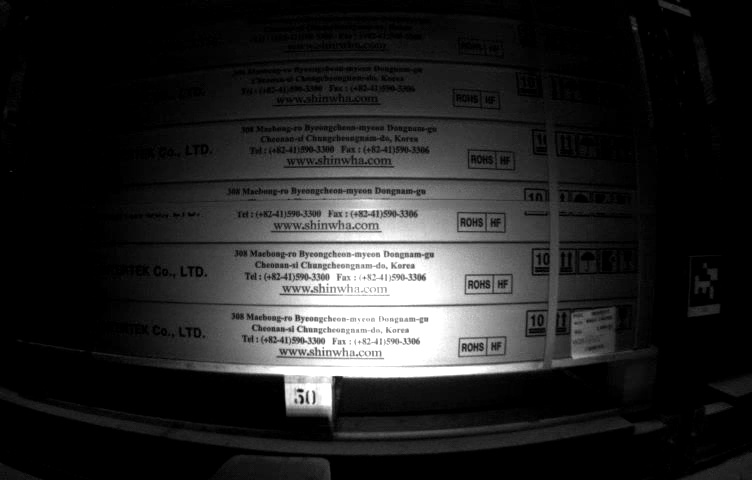True Barcode: (570, 308, 619, 360)
